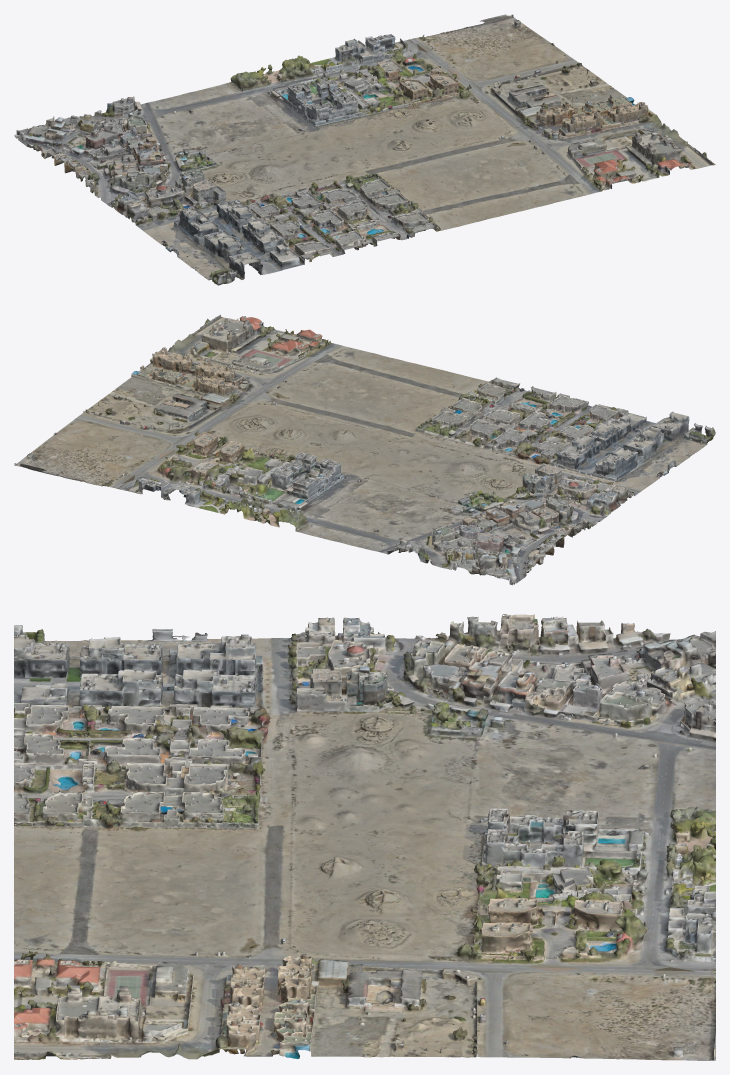
3 views of the same model, one above another, from view 1: azimuth 30°, elevation 25°; view 2: azimuth 150°, elevation 25°; view 3: azimuth 270°, elevation 25° (orthographic). The views are drawn at different scales.
Visible parts, largest first — view 1: BHR_002_M1_4_JanabiyahGeneral; view 2: BHR_002_M1_4_JanabiyahGeneral; view 3: BHR_002_M1_4_JanabiyahGeneral.
Boxes of the visible parts, bbox=[...] form: BHR_002_M1_4_JanabiyahGeneral: bbox=[14, 14, 715, 285]; BHR_002_M1_4_JanabiyahGeneral: bbox=[14, 314, 715, 585]; BHR_002_M1_4_JanabiyahGeneral: bbox=[14, 614, 715, 1060].
Size of the model in its own units: 438 by 17.59 by 309.
1 material, 1 textured.
